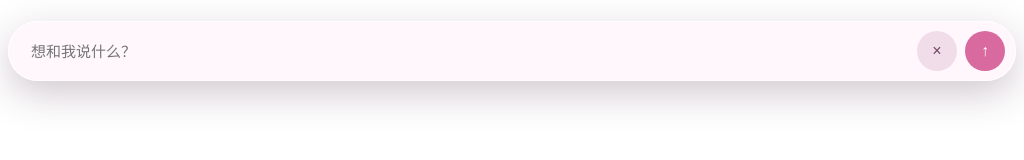
it: ChatComposer › keeps the message and shows the provider error when sending fails
Type "你好，希莉尔" into the field.
click(469, 51); type("你好，希莉尔")  # box [29, 42, 909, 60]
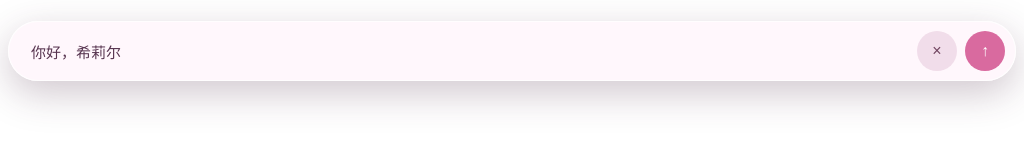
Submit the form, box [8, 21, 1016, 81]
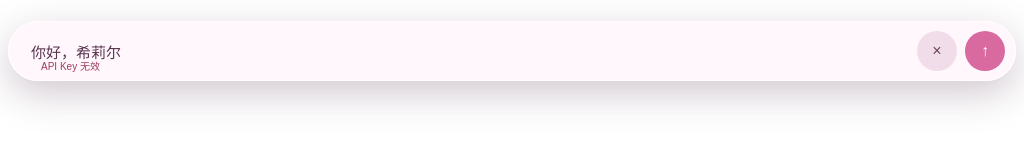
Result: the message reads "API Key 无效" at [41, 61, 100, 72]
